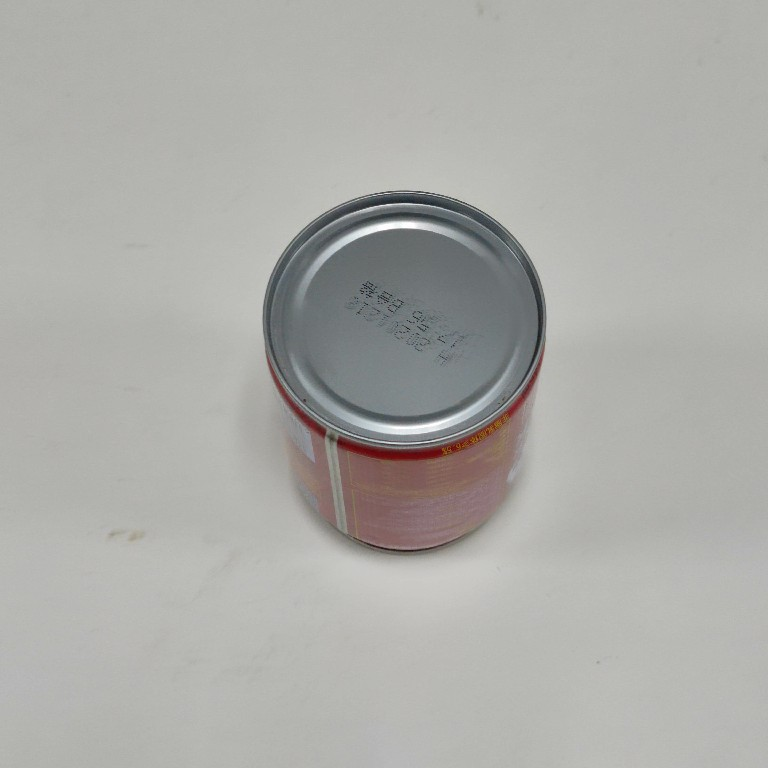can: (255, 184, 551, 561)
